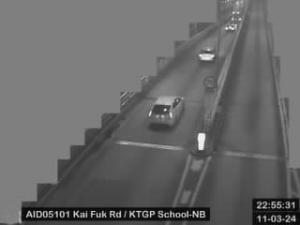vehicle: (148, 96, 184, 128), (199, 45, 217, 63), (230, 12, 242, 24), (226, 26, 238, 30)
